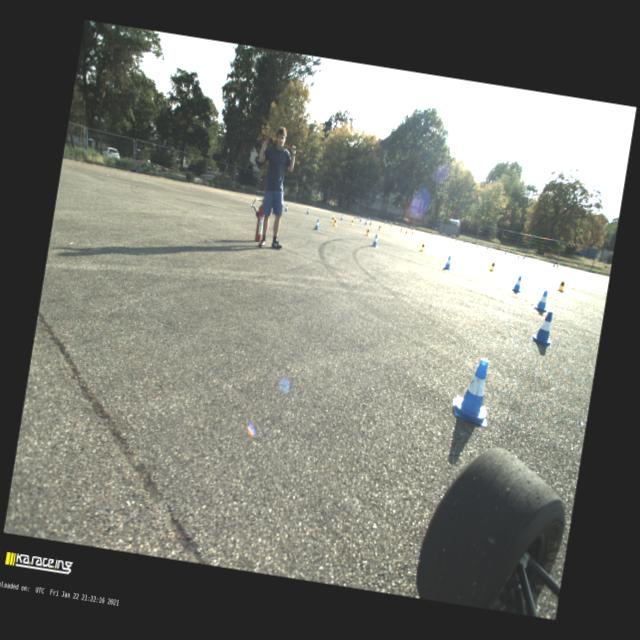blue_cone: (449, 356, 496, 426), (530, 309, 556, 346), (534, 288, 550, 312), (511, 274, 523, 292), (442, 254, 452, 269), (372, 234, 379, 247), (314, 218, 320, 230), (284, 204, 288, 212), (306, 208, 310, 214), (364, 219, 368, 225), (369, 220, 373, 226), (552, 262, 556, 268), (522, 254, 526, 259), (341, 214, 344, 220), (354, 215, 357, 220), (504, 250, 507, 255), (360, 216, 362, 222), (435, 232, 438, 236)
yellow_cone: (556, 278, 566, 292), (488, 260, 496, 272), (419, 242, 425, 252), (365, 228, 371, 236), (332, 218, 338, 226), (350, 218, 355, 226), (331, 216, 335, 223), (378, 224, 382, 231), (404, 230, 408, 237), (399, 226, 403, 232), (517, 254, 520, 260), (556, 264, 559, 270), (488, 248, 492, 252), (454, 238, 458, 242), (410, 231, 413, 236), (390, 224, 393, 228), (431, 232, 434, 236), (476, 244, 478, 248), (384, 222, 386, 226)
